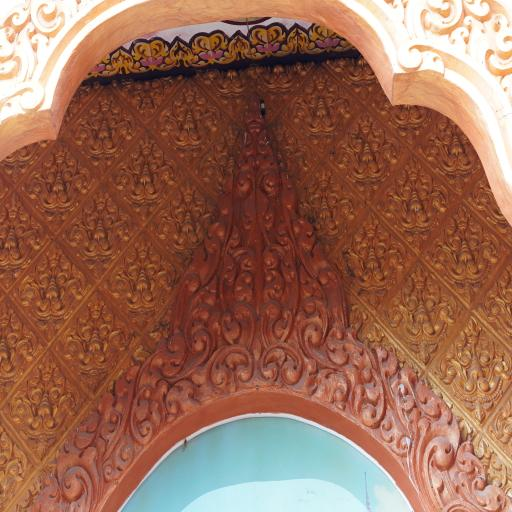la: (421, 417, 500, 512), (41, 452, 102, 512), (328, 326, 369, 382), (356, 362, 387, 434), (209, 344, 255, 389), (262, 346, 308, 390), (141, 337, 186, 381), (130, 386, 164, 442), (300, 296, 332, 351), (184, 310, 220, 357), (258, 302, 296, 346), (165, 380, 199, 423), (223, 303, 255, 348), (64, 414, 100, 451), (104, 441, 134, 482), (325, 367, 347, 415)
than: (335, 213, 420, 316), (326, 103, 408, 205), (433, 319, 512, 422), (427, 205, 506, 303), (14, 236, 94, 330), (103, 230, 176, 331), (384, 258, 458, 357), (7, 347, 74, 453), (54, 288, 128, 379), (296, 164, 364, 262), (281, 65, 363, 145), (112, 126, 180, 217), (69, 91, 142, 173), (416, 106, 486, 191), (156, 182, 224, 267), (66, 188, 130, 274), (154, 82, 223, 160), (28, 142, 90, 227), (0, 189, 48, 295), (198, 128, 258, 203), (0, 295, 39, 403), (372, 87, 442, 146), (258, 122, 314, 195), (114, 69, 186, 125), (465, 167, 512, 239), (194, 64, 260, 112), (324, 52, 392, 98), (248, 58, 316, 104), (0, 134, 51, 193), (0, 411, 29, 507), (478, 268, 512, 340)
